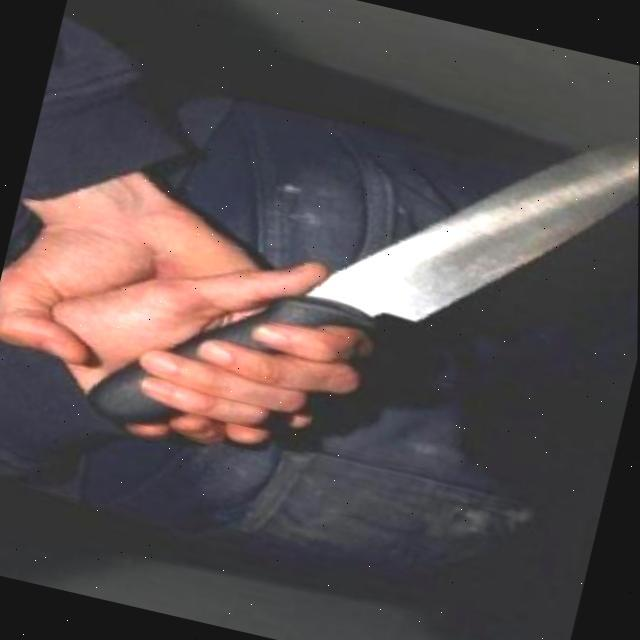knife: (83, 0, 640, 532)
